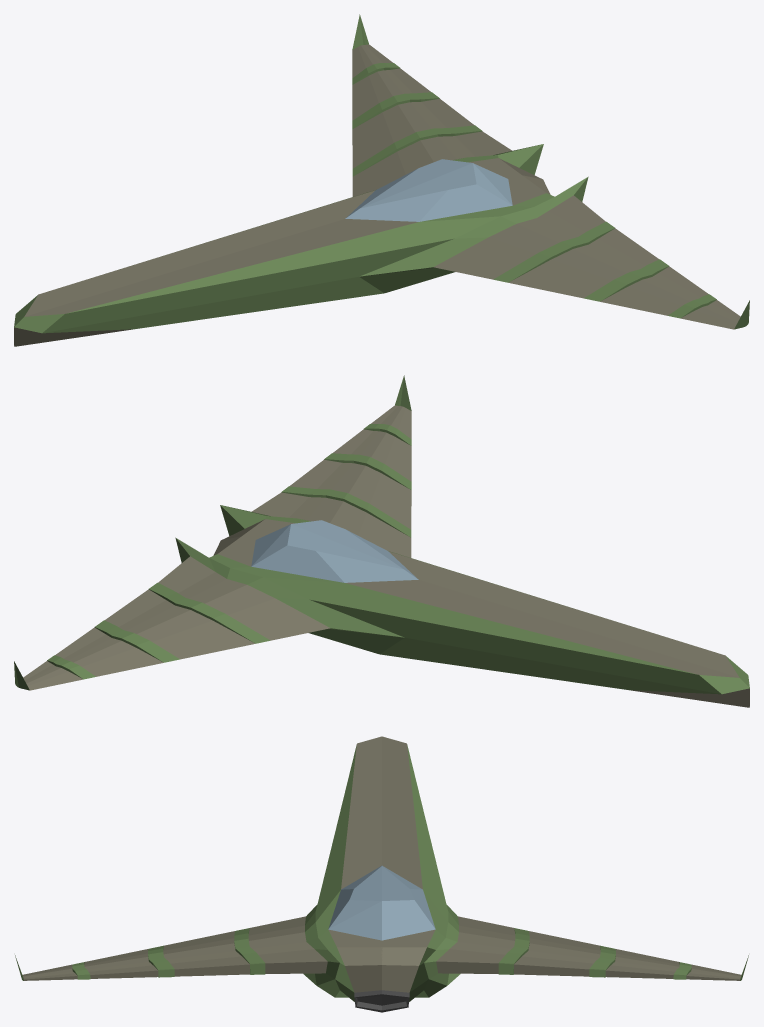
Rendered from nave.fbx.
3 views of the same model, one above another, from view 1: azimuth 30°, elevation 25°; view 2: azimuth 150°, elevation 25°; view 3: azimuth 270°, elevation 25° (orthographic). The views are drawn at different scales.
Visible parts, largest first — view 1: Cube; view 2: Cube; view 3: Cube.
Boxes of the visible parts, x1,y1,x2,y2 form: Cube: (14,14,749,346); Cube: (14,375,749,707); Cube: (15,736,748,1012).
Bounding box in the file's own units: 661 × 105 × 809.
